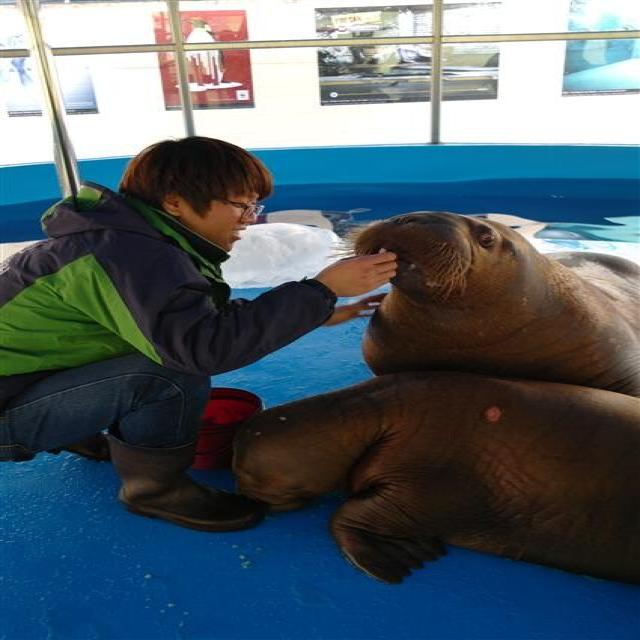walrus: (322, 192, 631, 406)
